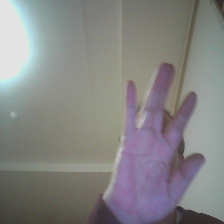hand: (114, 59, 209, 221)
